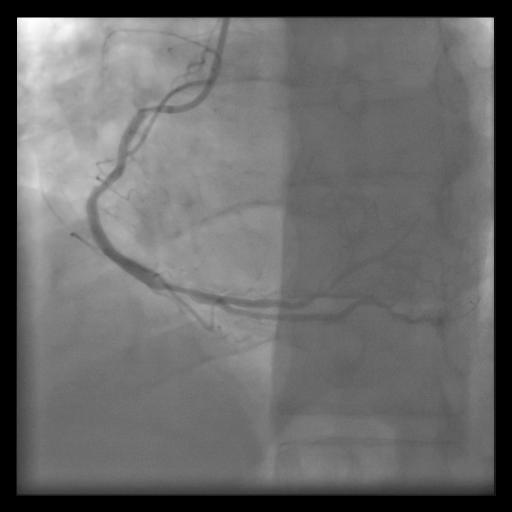Stenosis: (158, 269, 198, 302)
